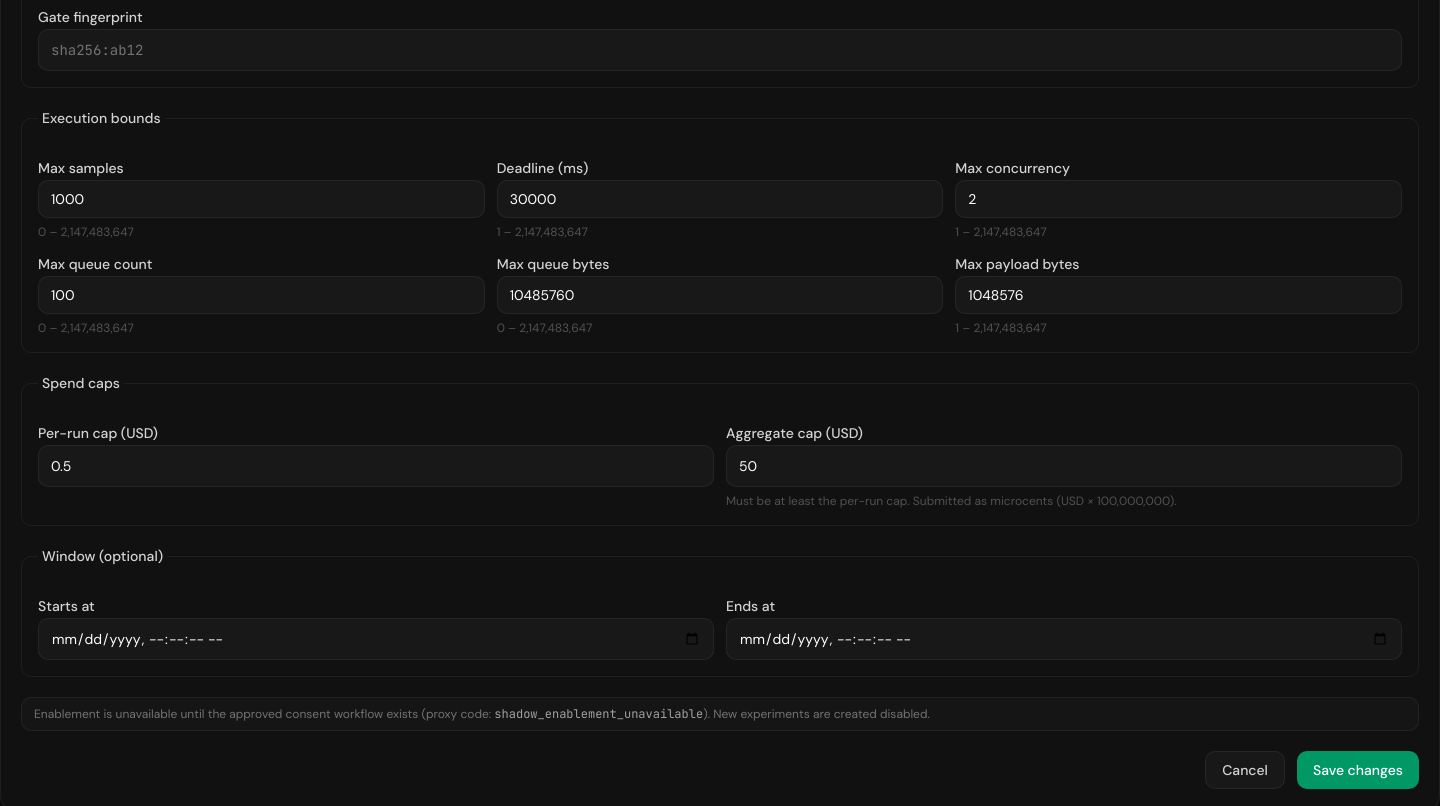
Test: ExperimentEditor edit mode › reports "No changes to save." when an unmodified experiment is submitted
(page scrolled)
Step 1. Click the button "Save changes" → (1358, 770), box [1297,751,1419,789]
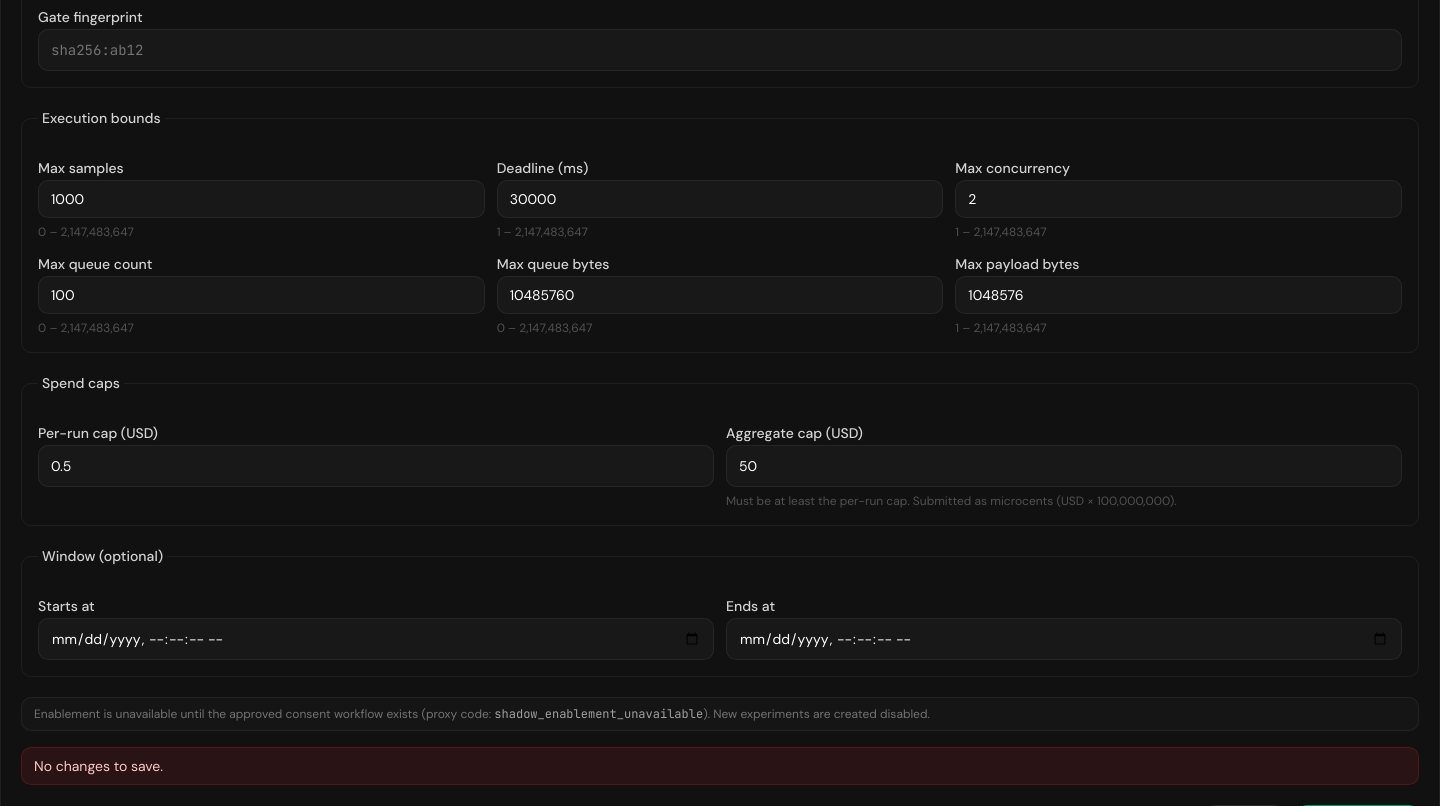
Result: the text "No changes to save." is shown at [21,747,1419,785]
